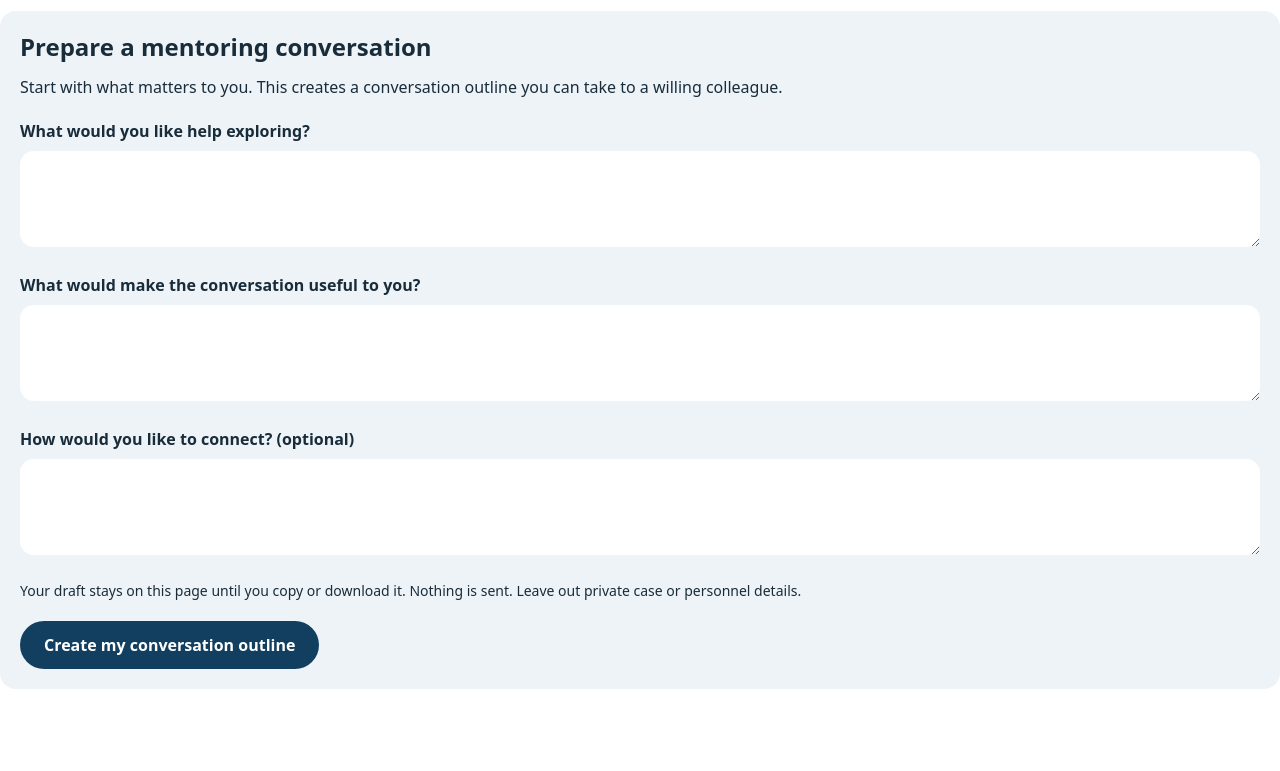
Amplify tools › reports a clipboard failure honestly and retains the draft
Type "Learning facilitation" into the text box labelled "What would you like help exploring?" at (640, 199), box [20,151,1260,247]
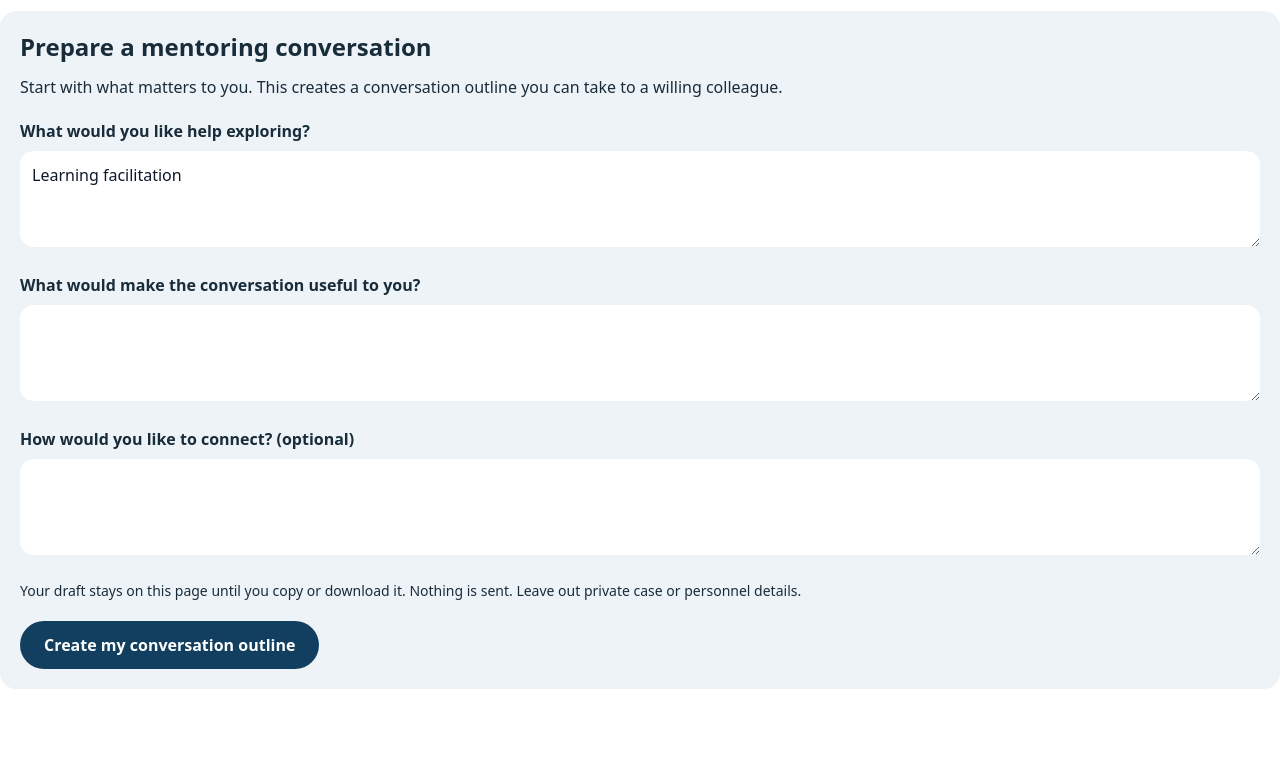
Type "A practical example" into the text box labelled "What would make the conversation useful to you?" at (640, 353), box [20,305,1260,401]
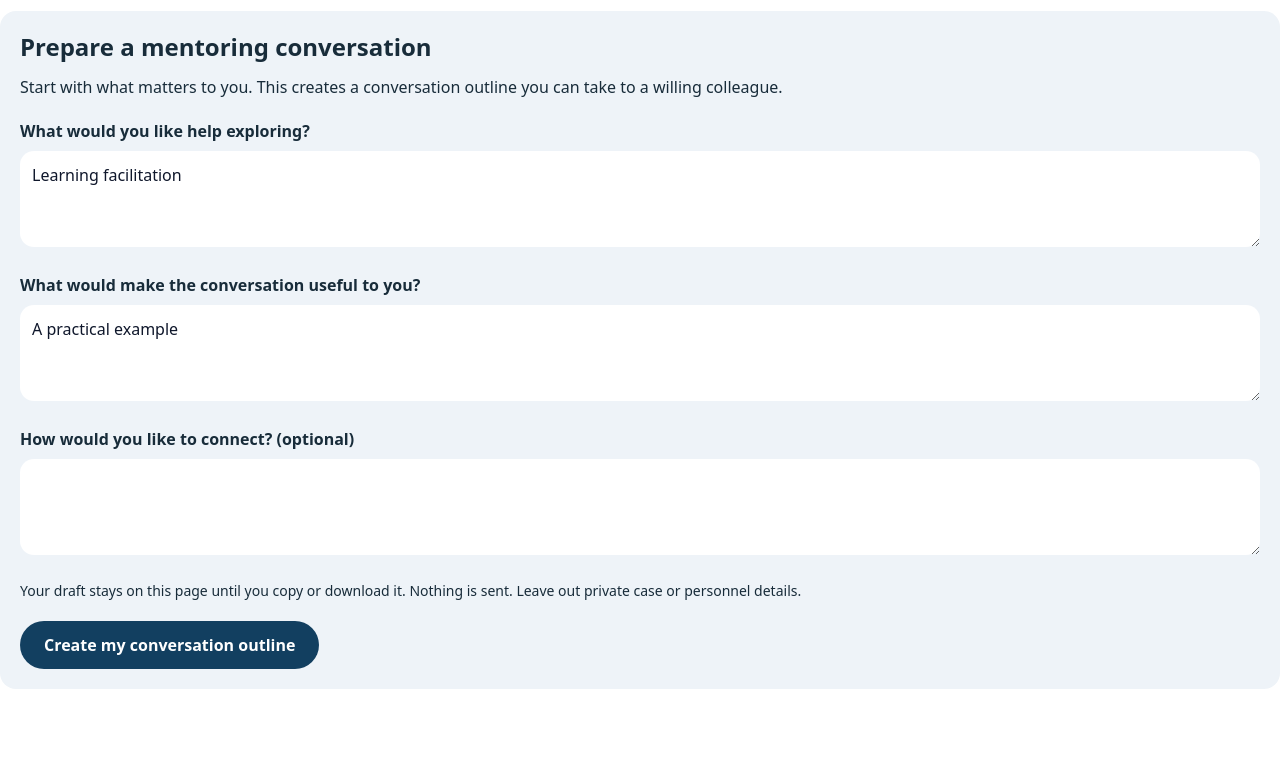
Click the button "Create my conversation outline" at (170, 645), box [20,621,319,669]
(page scrolled)
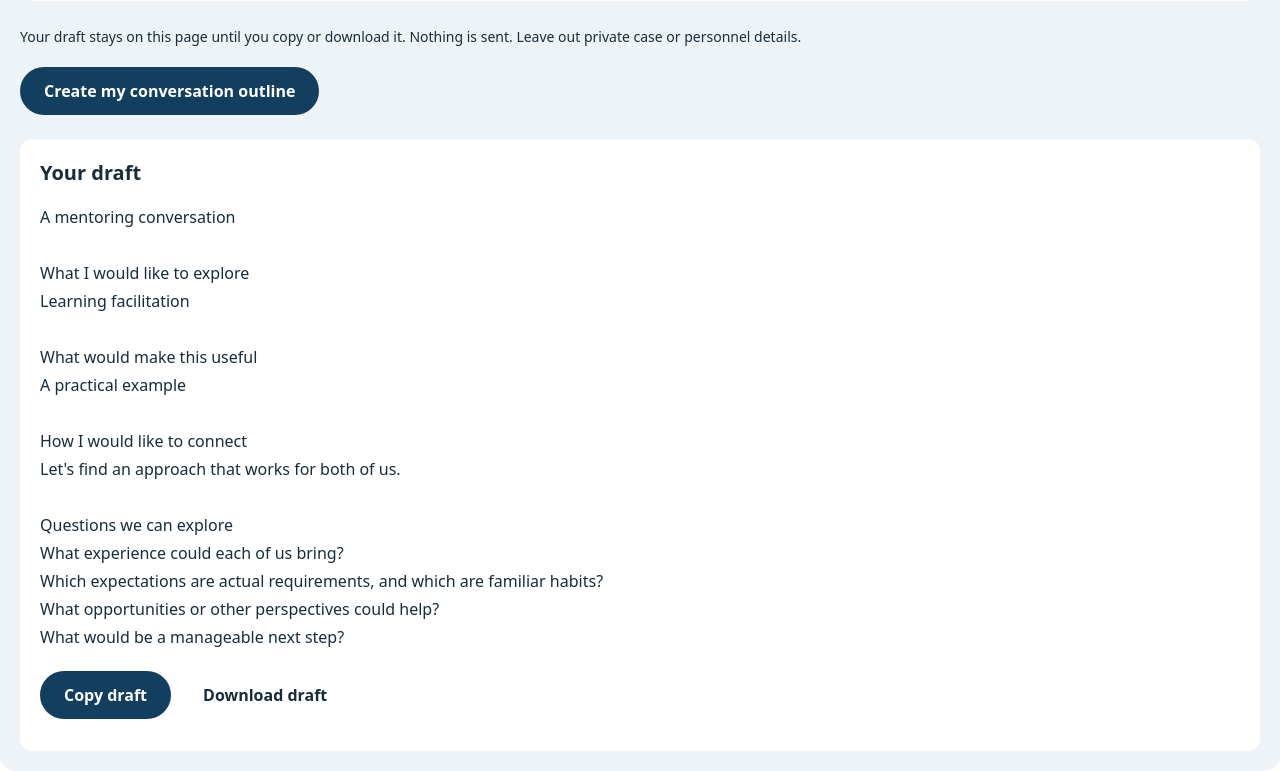
Click the button "Copy draft" at (106, 695), box [40,671,171,719]
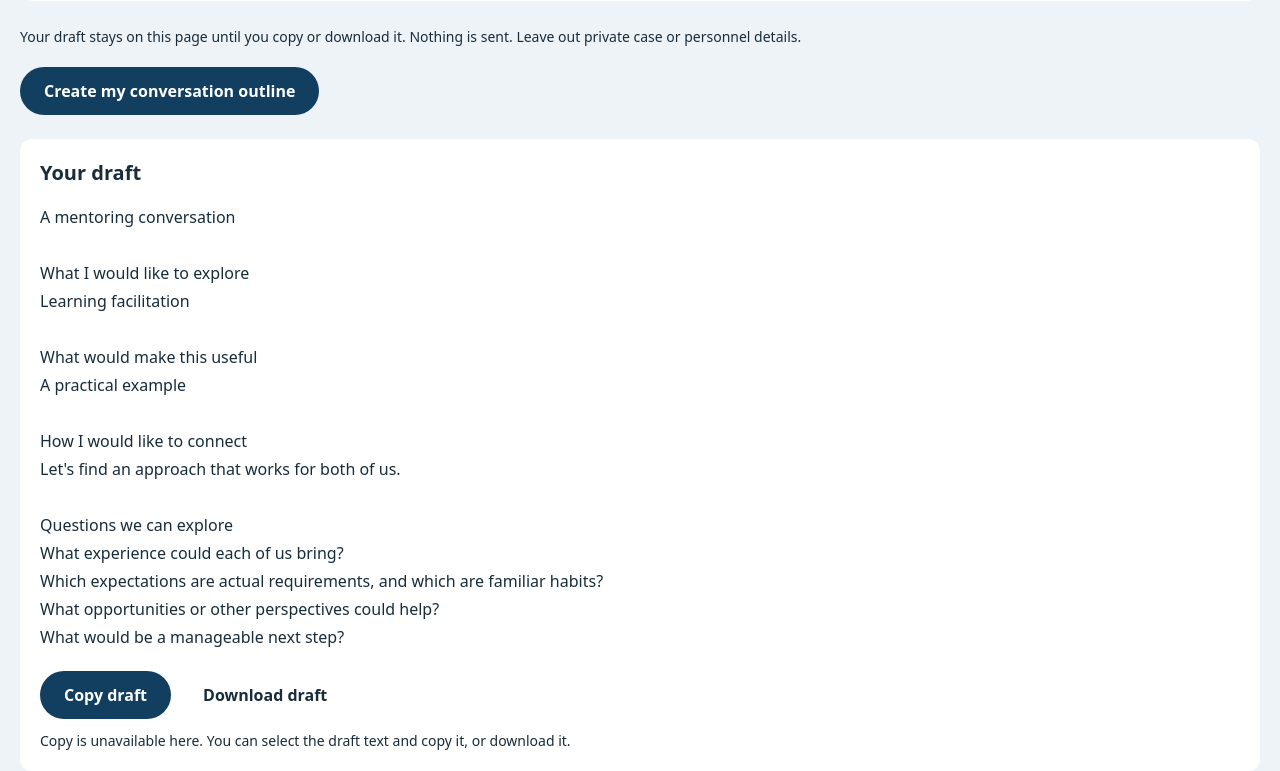
Result: the button "Download draft" is shown at [183,671,347,719]
Result: the text "Copy is unavailable here" is shown at [40,731,571,750]
